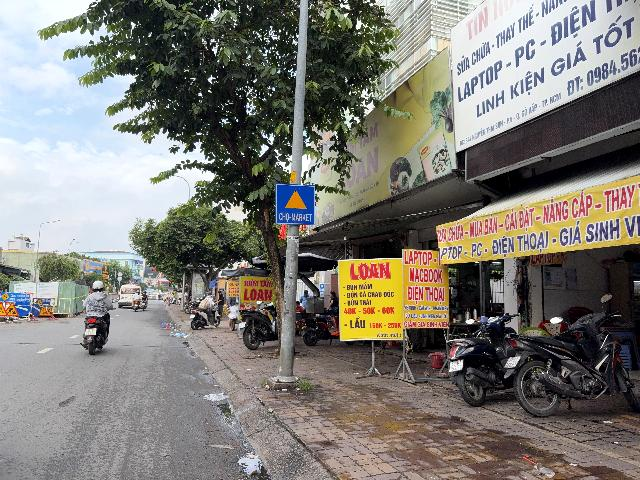khu-vuc-cho-phia-truoc: (275, 183, 316, 226)
